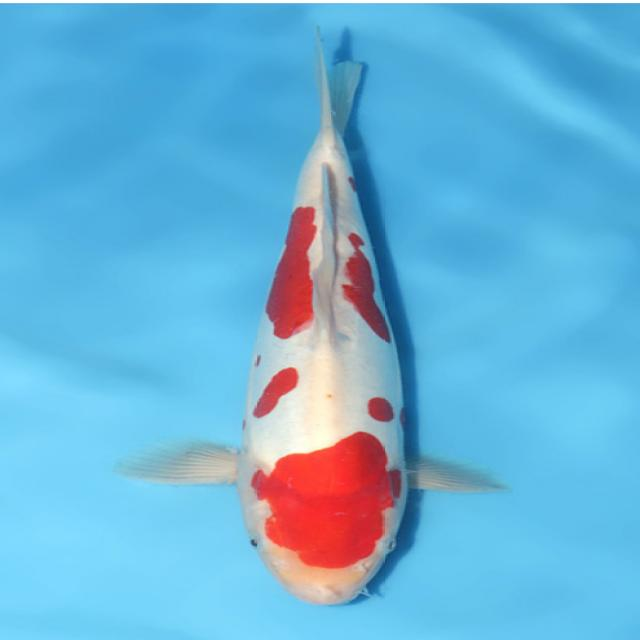Kohaku: (115, 24, 508, 606)
